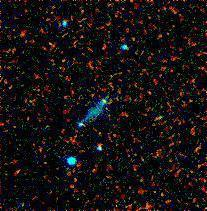star: (89, 92, 119, 122)
